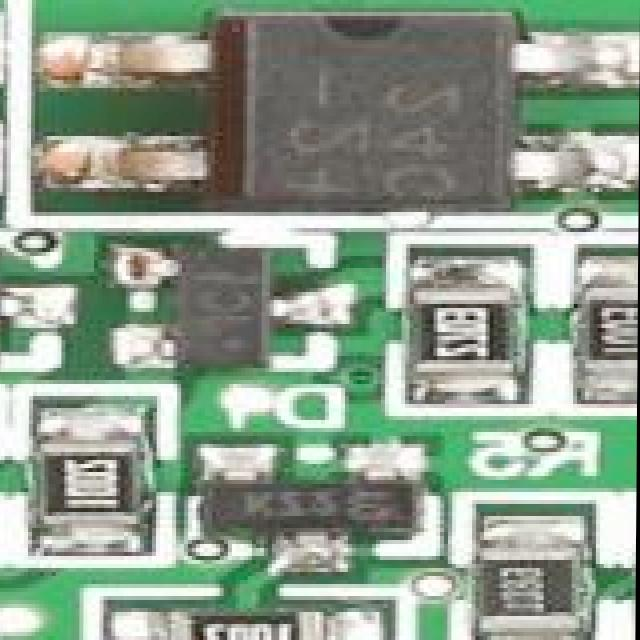IC: (39, 20, 640, 208)
capacitor: (0, 604, 24, 640), (632, 528, 637, 640)
resistor: (472, 532, 589, 640), (41, 424, 142, 530), (414, 280, 506, 396), (100, 616, 420, 640), (582, 288, 638, 380)
transistor: (92, 248, 307, 378), (193, 460, 417, 570), (0, 244, 35, 380)
